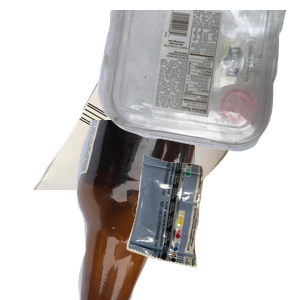glass: (60, 120, 300, 300)
paper: (31, 35, 271, 215)
plastic: (95, 10, 300, 154)
trash: (124, 152, 300, 300)
